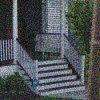stairs: (20, 58, 85, 93)
